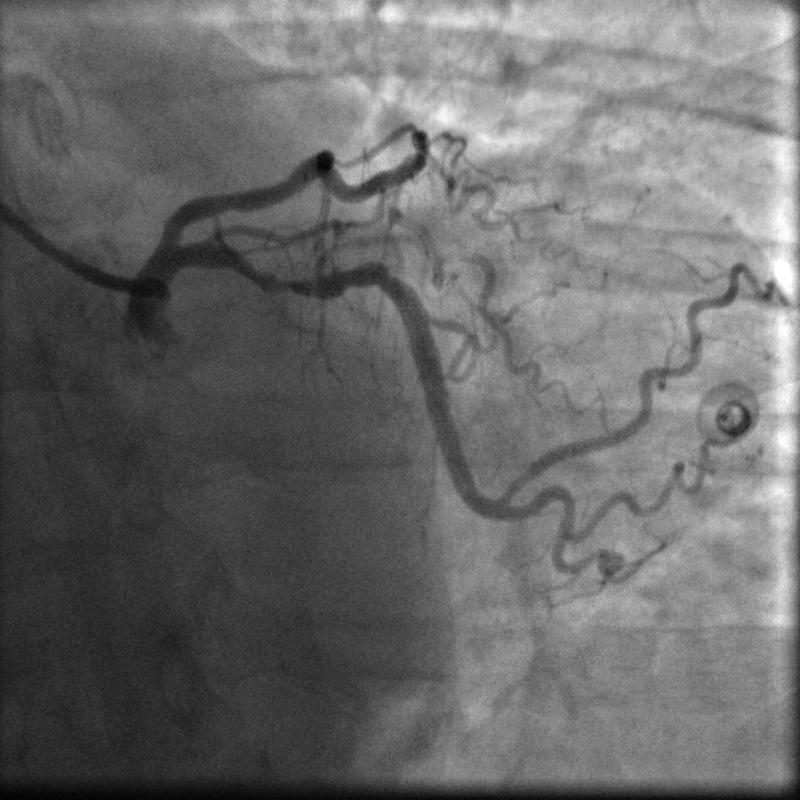Stenosis: (255, 266, 315, 300)
